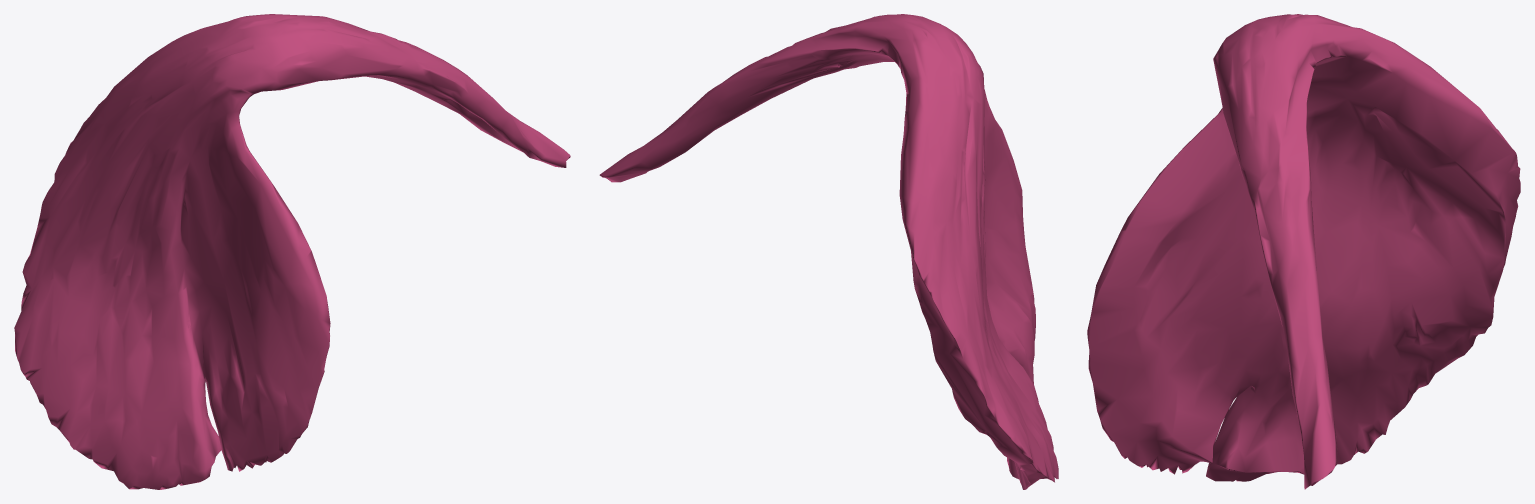
3 views of the same model, side by side, from view 1: azimuth 30°, elevation 25°; view 2: azimuth 150°, elevation 25°; view 3: azimuth 270°, elevation 25° (orthographic). The views are drawn at different scales.
Parts seen in each view (by area): view 1: 左侧闭孔内肌; view 2: 左侧闭孔内肌; view 3: 左侧闭孔内肌.
Part boxes in pixels (bbox=[...]): 左侧闭孔内肌: bbox=[14, 14, 570, 489]; 左侧闭孔内肌: bbox=[599, 14, 1058, 489]; 左侧闭孔内肌: bbox=[1087, 14, 1520, 489].
Size of the model in its own units: 0.144 by 0.1202 by 0.0881.
